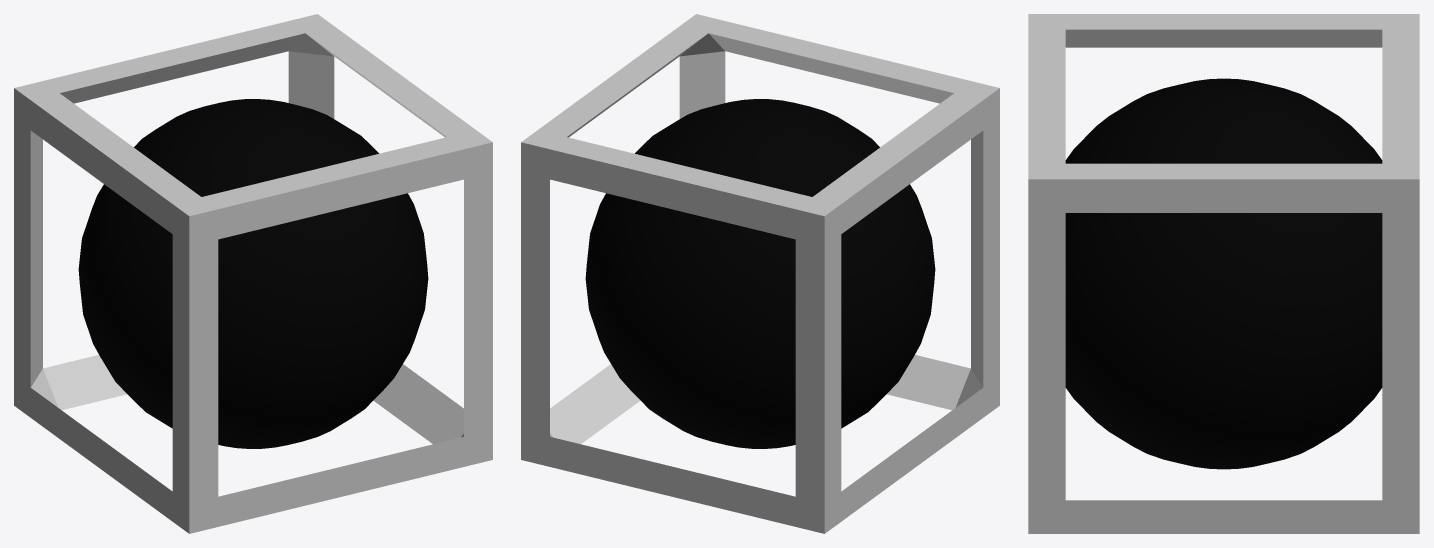
File: player.obj
The picture shows the model from 3 angles, left to right: view 1: azimuth 30°, elevation 25°; view 2: azimuth 150°, elevation 25°; view 3: azimuth 270°, elevation 25°; orthographic projection. The views are drawn at different scales.
Parts seen in each view (by area): view 1: 立方体, 球; view 2: 立方体, 球; view 3: 球, 立方体.
Part boxes in pixels (bbox=[...]): 立方体: bbox=[14, 14, 492, 533]; 球: bbox=[78, 99, 428, 448]; 立方体: bbox=[521, 14, 999, 533]; 球: bbox=[585, 99, 935, 448]; 球: bbox=[1065, 78, 1382, 469]; 立方体: bbox=[1028, 14, 1419, 533].
Bounding box in the file's own units: 2 × 2 × 2.
1 material, 1 textured.
